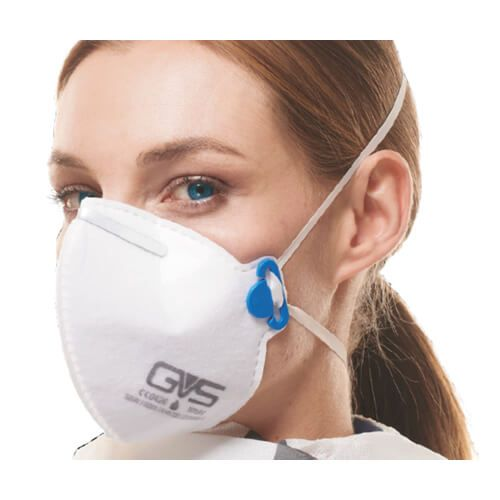with_mask: (60, 106, 288, 381)
